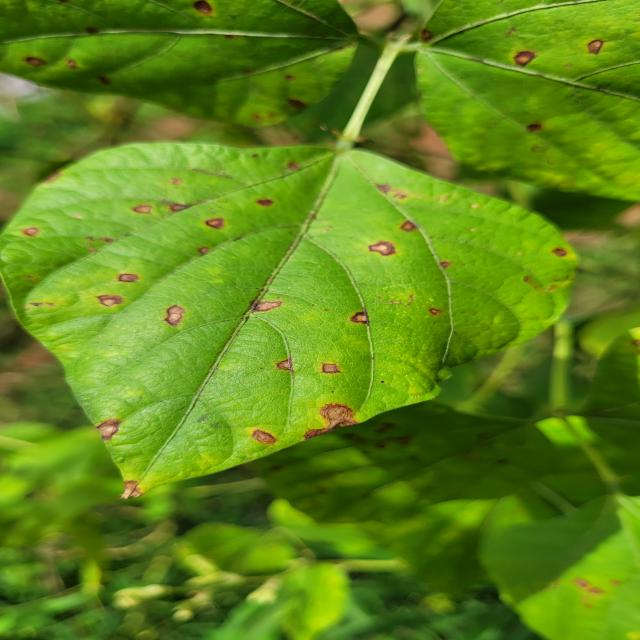Dolicos bean_cercospora leaf spot: (0, 142, 578, 496), (390, 0, 640, 209)
